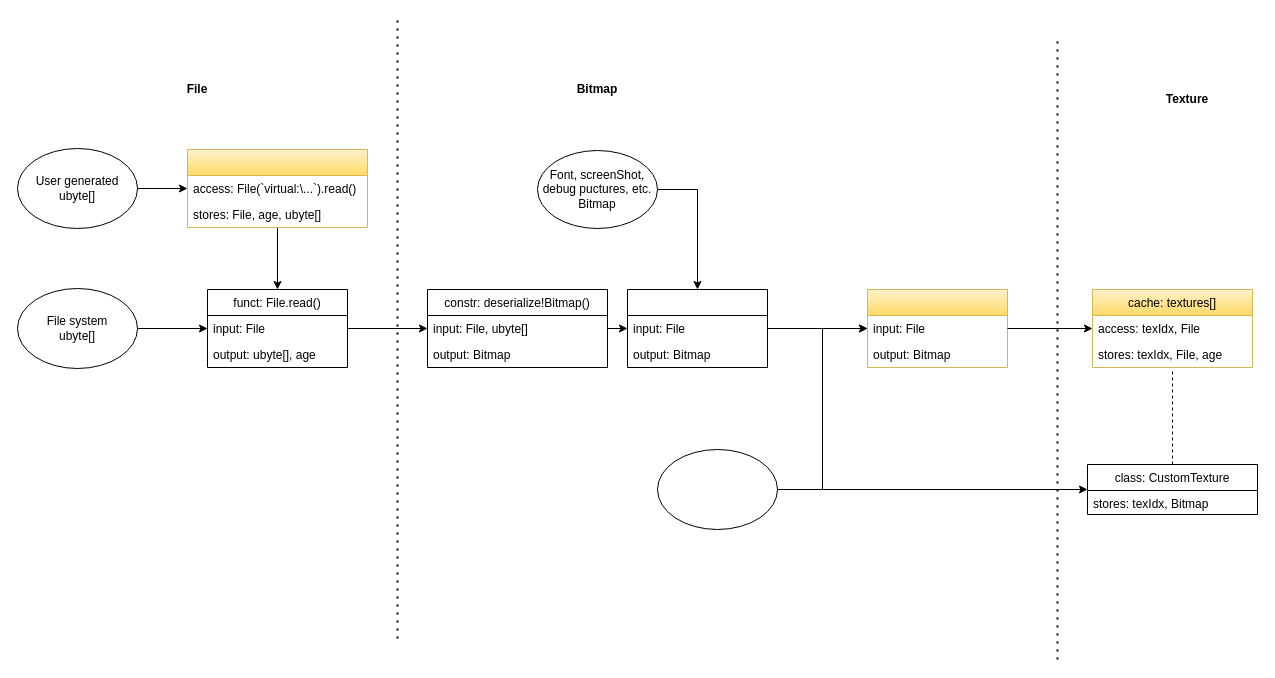
This 1275x678 diagram has some shape labels left out. The box of each missing label's shape, as (x1, y1, x2, y2) in pixels:
cache: bitmap(): (866, 288, 1008, 368)
funct: newBitmap(): (626, 288, 768, 368)
map: virtualFiles[]: (186, 148, 368, 228)
User generated Bitmap: (656, 448, 778, 530)
